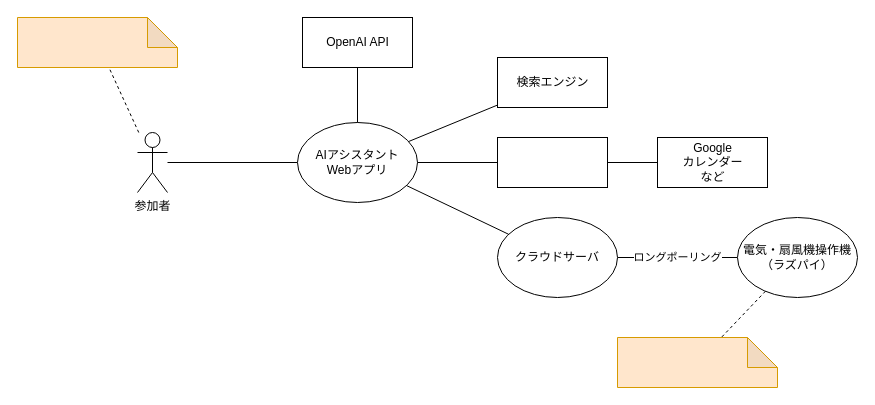
This 875x405 diagram has some shape labels left out. The box of each missing label's shape, as (x1, y1, x2, y2) in pixels:
WiFiの設定方法は要検討 （テザリング？）: (616, 336, 778, 388)
Zapier NLA: (496, 136, 608, 188)
「扇風機つけて」などの入力 （入力はキーボード）: (16, 16, 178, 68)
